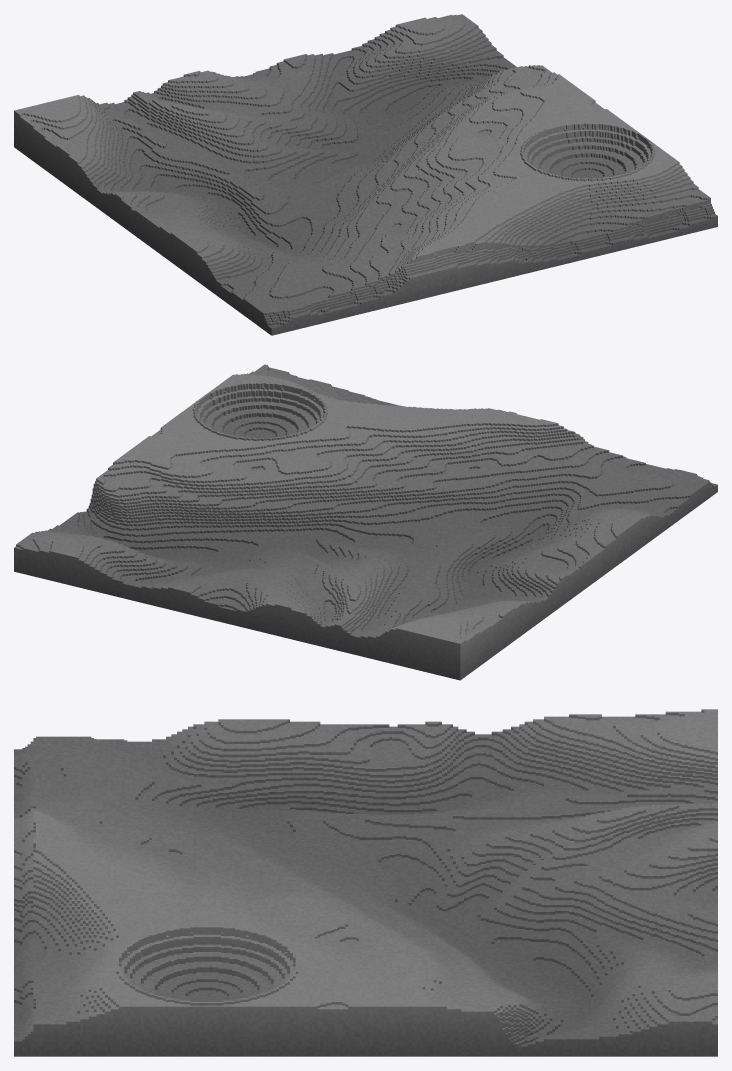
Rendered from LunaGrande-14.obj.
The picture shows the model from 3 angles, top to bottom: view 1: azimuth 30°, elevation 25°; view 2: azimuth 150°, elevation 25°; view 3: azimuth 270°, elevation 25°; orthographic projection. The views are drawn at different scales.
Size of the model in its own units: 25.5 by 2.1 by 25.5.
Materials: 1 (1 with a texture image).
